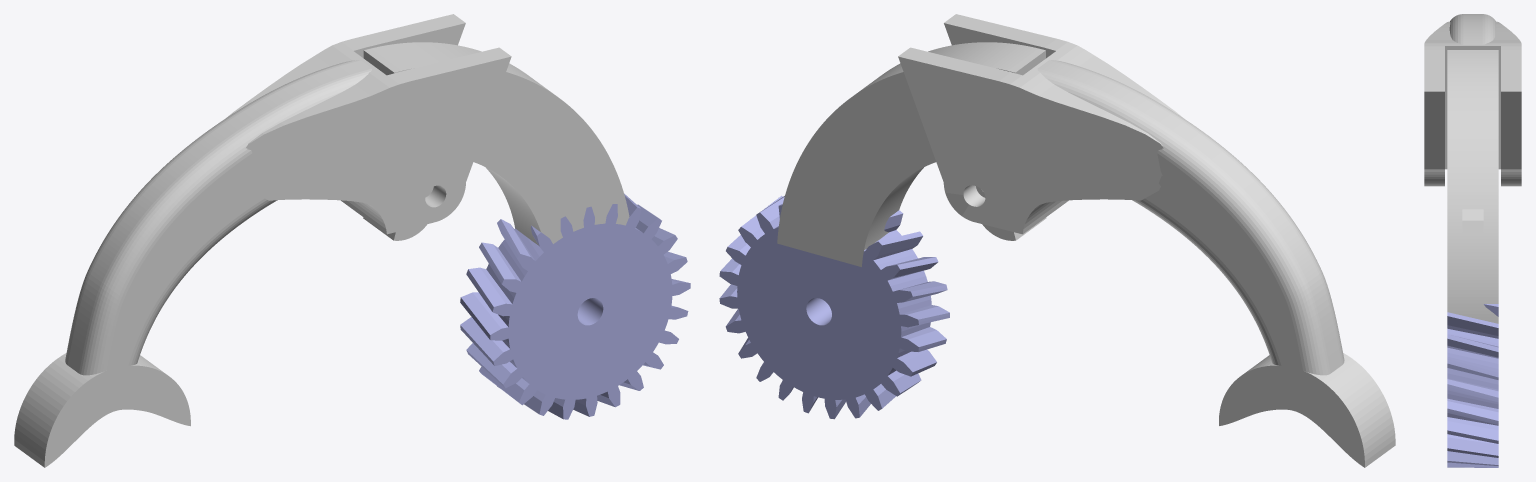
File: manipulator_finger.glb
3 views of the same model, side by side, from view 1: azimuth 30°, elevation 25°; view 2: azimuth 150°, elevation 25°; view 3: azimuth 270°, elevation 25° (orthographic). The views are drawn at different scales.
Visible parts, largest first — view 1: Gear.008, Куб.037, Куб.029, Куб.028, Цилиндр.064; view 2: Куб.037, Gear.008, Куб.029, Куб.028, Цилиндр.064; view 3: Куб.028, Gear.008, Куб.037, Куб.029.
Boxes of the visible parts, x1,y1,x2,y2 form: Gear.008: (460,193,690,419); Куб.037: (226,14,511,234); Куб.029: (65,60,371,394); Куб.028: (363,42,629,245); Цилиндр.064: (14,353,190,467); Куб.037: (898,14,1184,234); Gear.008: (719,195,949,419); Куб.029: (1037,60,1344,393); Куб.028: (777,42,1045,266); Цилиндр.064: (1219,353,1395,467); Куб.028: (1447,50,1498,323); Gear.008: (1447,304,1498,467); Куб.037: (1424,21,1521,186); Куб.029: (1449,14,1496,44).
Size of the model in its own units: 88.48 by 51.41 by 13.78.
